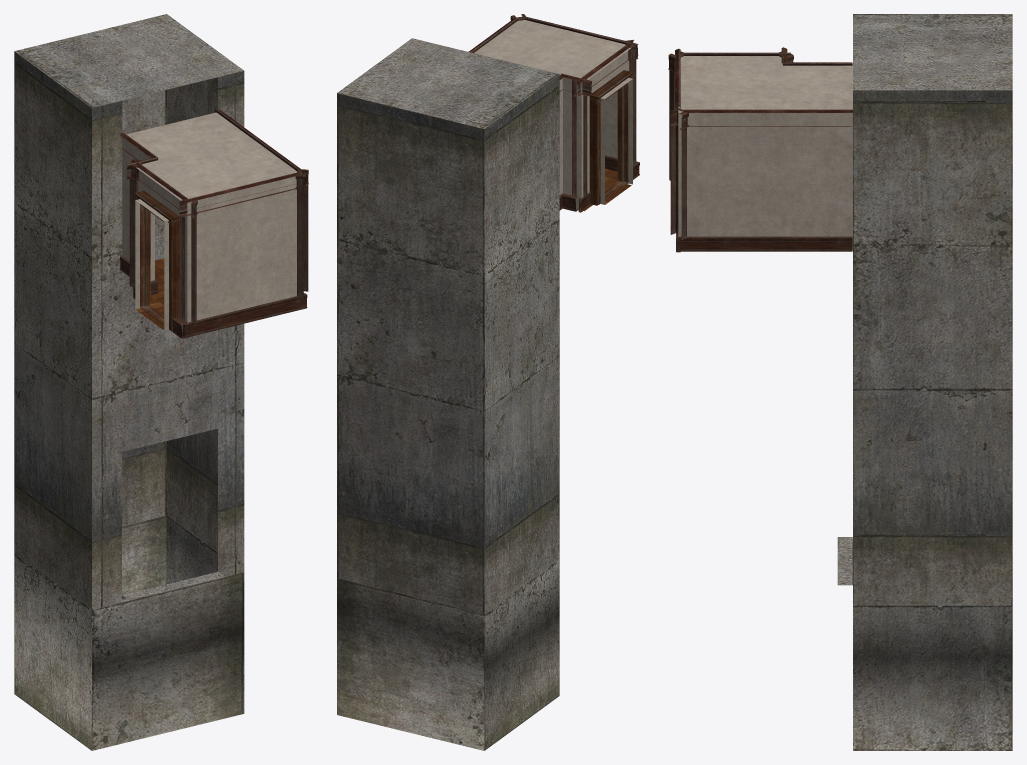
3 renders of one model, left to right at view 1: azimuth 30°, elevation 25°; view 2: azimuth 150°, elevation 25°; view 3: azimuth 270°, elevation 25°, orthographic. The views are drawn at different scales.
Visible parts, largest first — view 1: LOD_1_Group_0_Sub_2__st3_policeUndergroundWall04, LOD_1_Group_0_Sub_1__st4_policeHallWall06, LOD_1_Group_0_Sub_5__st2_police2fLeftPillar02, LOD_1_Group_0_Sub_6__st2_police2fLeftDoor02, LOD_1_Group_0_Sub_4__st2_police2fLeftPillar03, LOD_1_Group_0_Sub_3__st2_ArchitectRoomFloor01_Mat2; view 2: LOD_1_Group_0_Sub_2__st3_policeUndergroundWall04, LOD_1_Group_0_Sub_1__st4_policeHallWall06, LOD_1_Group_0_Sub_5__st2_police2fLeftPillar02, LOD_1_Group_0_Sub_6__st2_police2fLeftDoor02, LOD_1_Group_0_Sub_4__st2_police2fLeftPillar03; view 3: LOD_1_Group_0_Sub_2__st3_policeUndergroundWall04, LOD_1_Group_0_Sub_1__st4_policeHallWall06, LOD_1_Group_0_Sub_5__st2_police2fLeftPillar02, LOD_1_Group_0_Sub_4__st2_police2fLeftPillar03.
Part boxes in pixels (x1=…): LOD_1_Group_0_Sub_2__st3_policeUndergroundWall04: x1=14, y1=14, x2=244, y2=750; LOD_1_Group_0_Sub_1__st4_policeHallWall06: x1=122, y1=112, x2=301, y2=331; LOD_1_Group_0_Sub_5__st2_police2fLeftPillar02: x1=120, y1=108, x2=308, y2=324; LOD_1_Group_0_Sub_6__st2_police2fLeftDoor02: x1=134, y1=190, x2=179, y2=330; LOD_1_Group_0_Sub_4__st2_police2fLeftPillar03: x1=120, y1=256, x2=307, y2=338; LOD_1_Group_0_Sub_3__st2_ArchitectRoomFloor01_Mat2: x1=133, y1=258, x2=182, y2=334; LOD_1_Group_0_Sub_2__st3_policeUndergroundWall04: x1=337, y1=38, x2=559, y2=750; LOD_1_Group_0_Sub_1__st4_policeHallWall06: x1=474, y1=20, x2=632, y2=210; LOD_1_Group_0_Sub_5__st2_police2fLeftPillar02: x1=468, y1=14, x2=638, y2=199; LOD_1_Group_0_Sub_6__st2_police2fLeftDoor02: x1=589, y1=70, x2=632, y2=205; LOD_1_Group_0_Sub_4__st2_police2fLeftPillar03: x1=559, y1=155, x2=639, y2=212; LOD_1_Group_0_Sub_2__st3_policeUndergroundWall04: x1=837, y1=14, x2=1012, y2=750; LOD_1_Group_0_Sub_1__st4_policeHallWall06: x1=678, y1=56, x2=852, y2=249; LOD_1_Group_0_Sub_5__st2_police2fLeftPillar02: x1=668, y1=47, x2=852, y2=239; LOD_1_Group_0_Sub_4__st2_police2fLeftPillar03: x1=676, y1=233, x2=852, y2=252.
Size of the model in its own units: 3.32 by 13.21 by 6.24.
